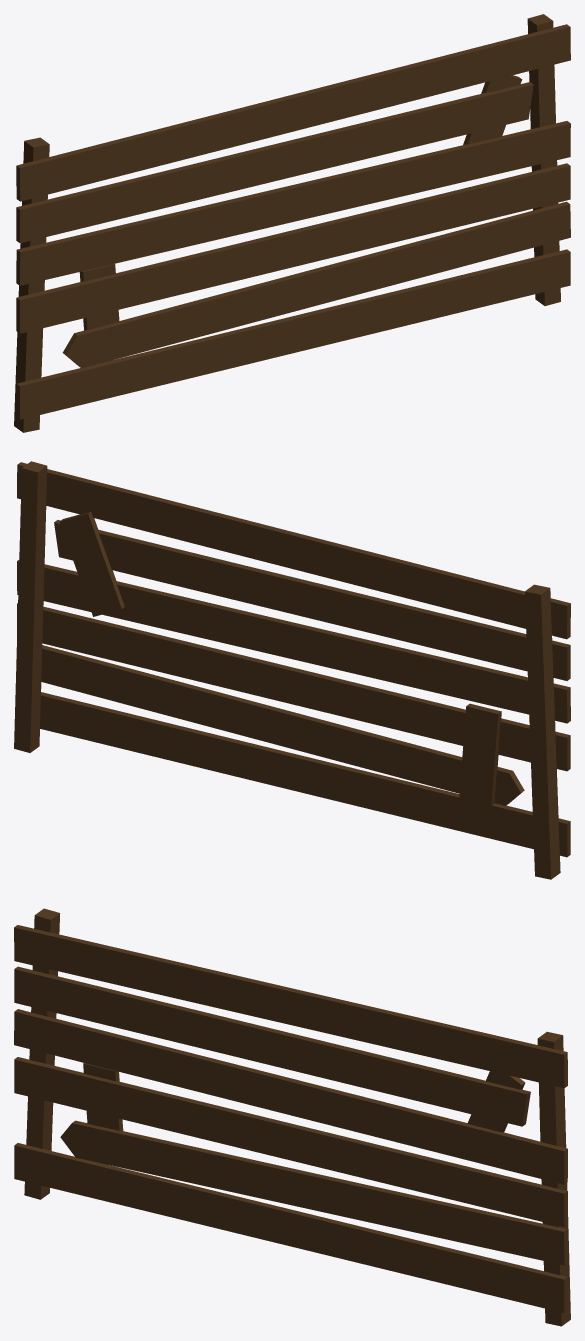
File: fence_mesh.fbx
The picture shows the model from 3 angles, top to bottom: view 1: azimuth 30°, elevation 25°; view 2: azimuth 150°, elevation 25°; view 3: azimuth 330°, elevation 25°; orthographic projection.
Parts seen in each view (by area): view 1: Cube.004; view 2: Cube.004; view 3: Cube.004.
Boxes of the visible parts, x1,y1,x2,y2 form: Cube.004: (14,14,570,432); Cube.004: (14,461,570,879); Cube.004: (14,908,570,1326).
Bounding box in the file's own units: 510 × 250 × 20.59.
